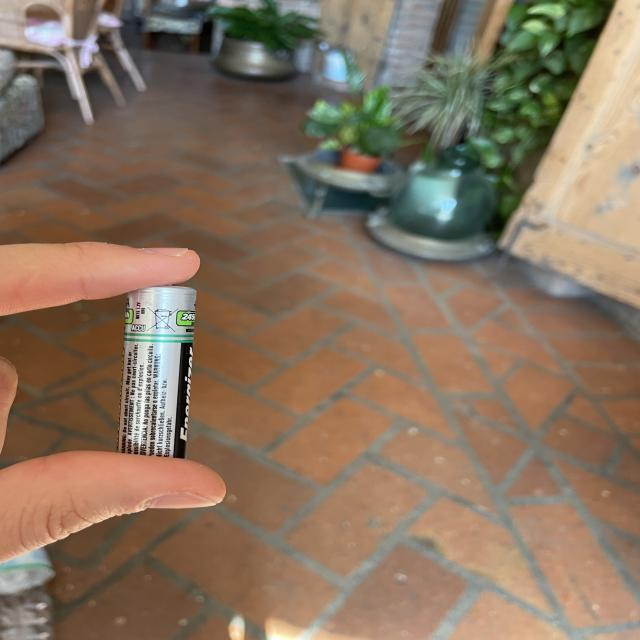Hazard: (114, 278, 201, 460)
